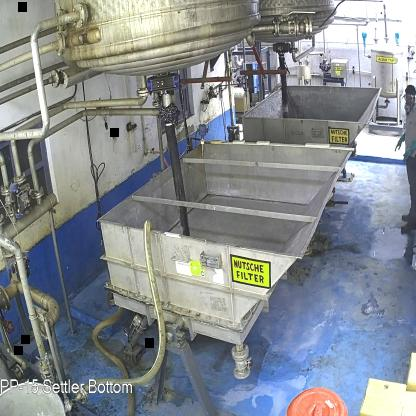goggles: (403, 92, 416, 102)
mask: (403, 99, 416, 114)
